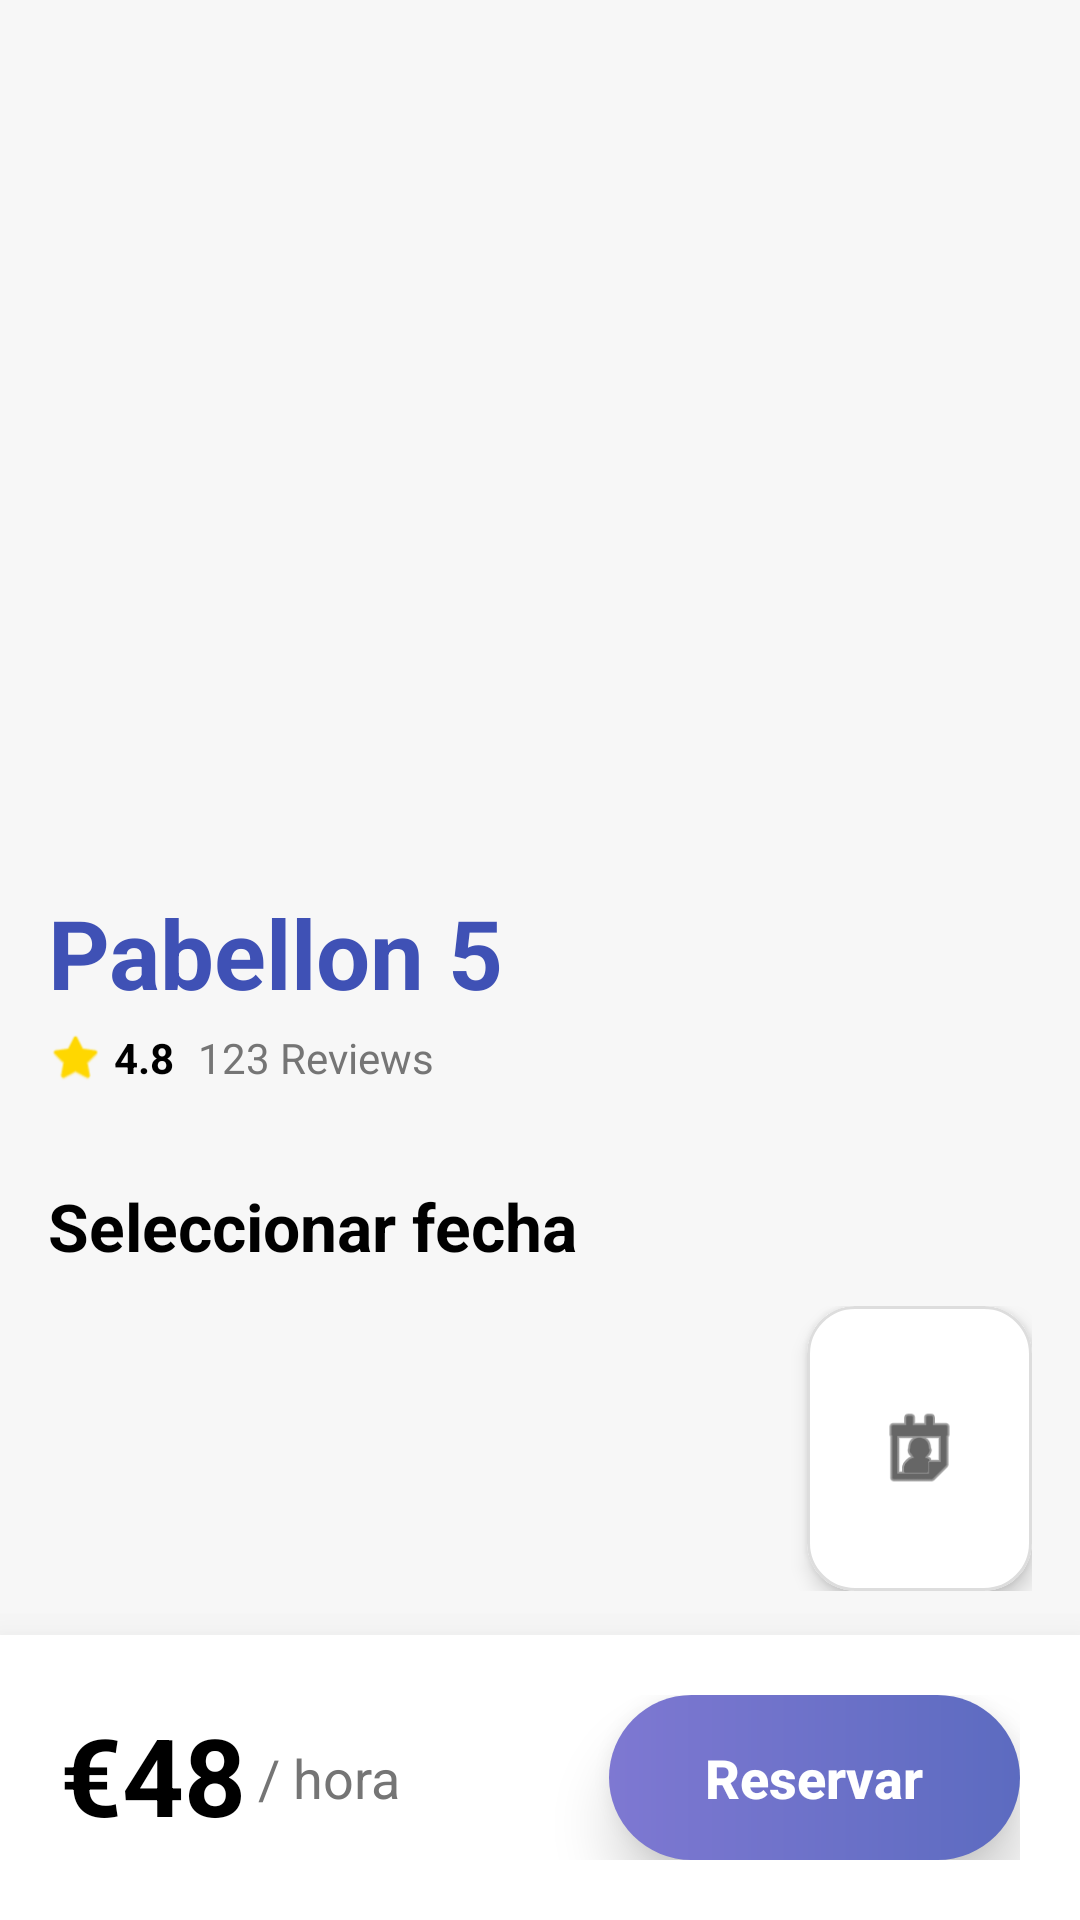

Icons on this 1080w x 1920h Android screen, each with the point to tap as (x,y):
calendar: (919,1448)
star on: (75,1057)
